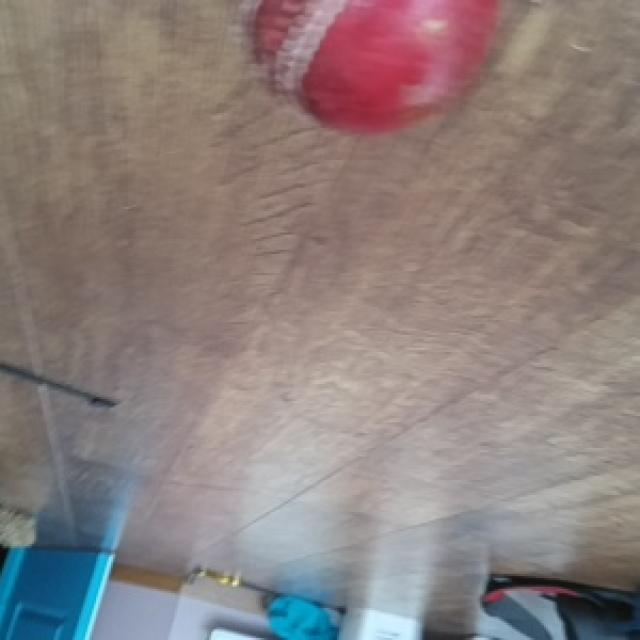ball: (245, 0, 518, 137)
